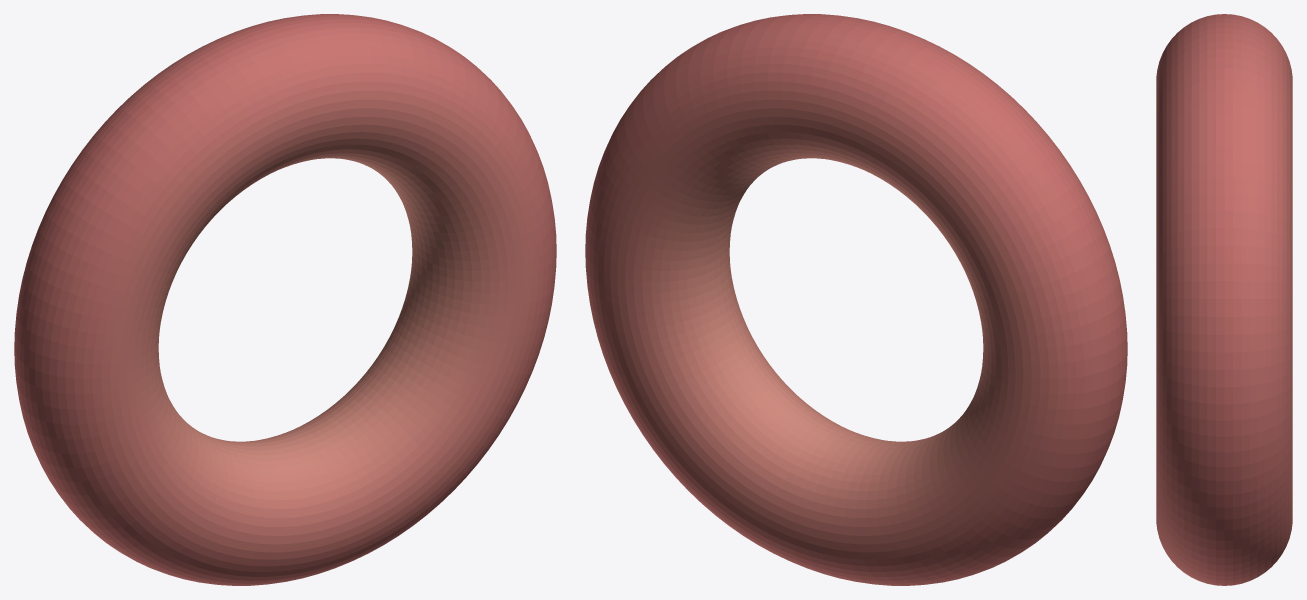
3 views of the same model, side by side, from view 1: azimuth 30°, elevation 25°; view 2: azimuth 150°, elevation 25°; view 3: azimuth 270°, elevation 25° (orthographic). The views are drawn at different scales.
Parts seen in each view (by area): view 1: world; view 2: world; view 3: world.
Boxes of the visible parts, x1=… form: world: x1=14, y1=14, x2=556, y2=585; world: x1=585, y1=14, x2=1127, y2=585; world: x1=1156, y1=14, x2=1292, y2=585.
Size of the model in its own units: 30.67 by 30.67 by 7.32.
